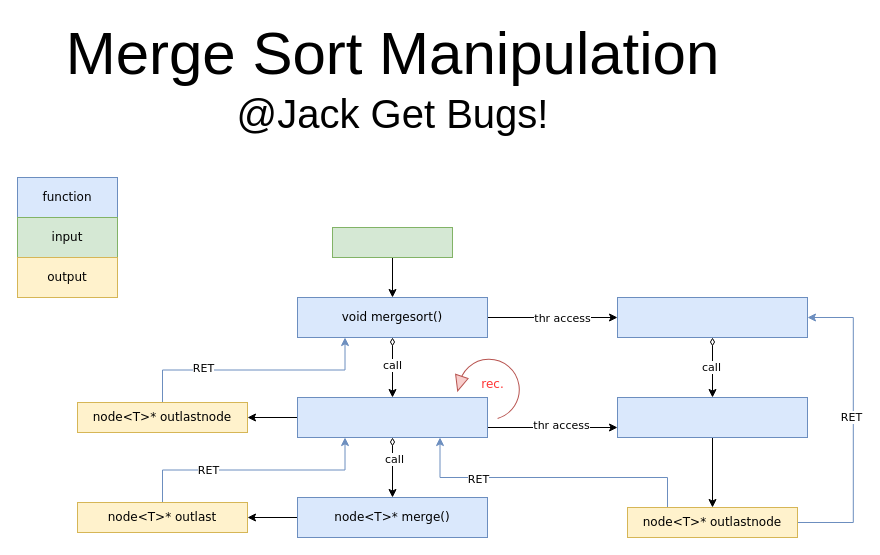
Image size: 880x555. Some labels were removed from this diagram. Here are the shapes that lost their labels. From the top down, the centre of each, then its label:
At [392,242]: "int thr".
At [712,317]: "void selectionsort()".
At [392,417]: "node<T>* msort()".
At [712,417]: "node<T>* ssort()".
